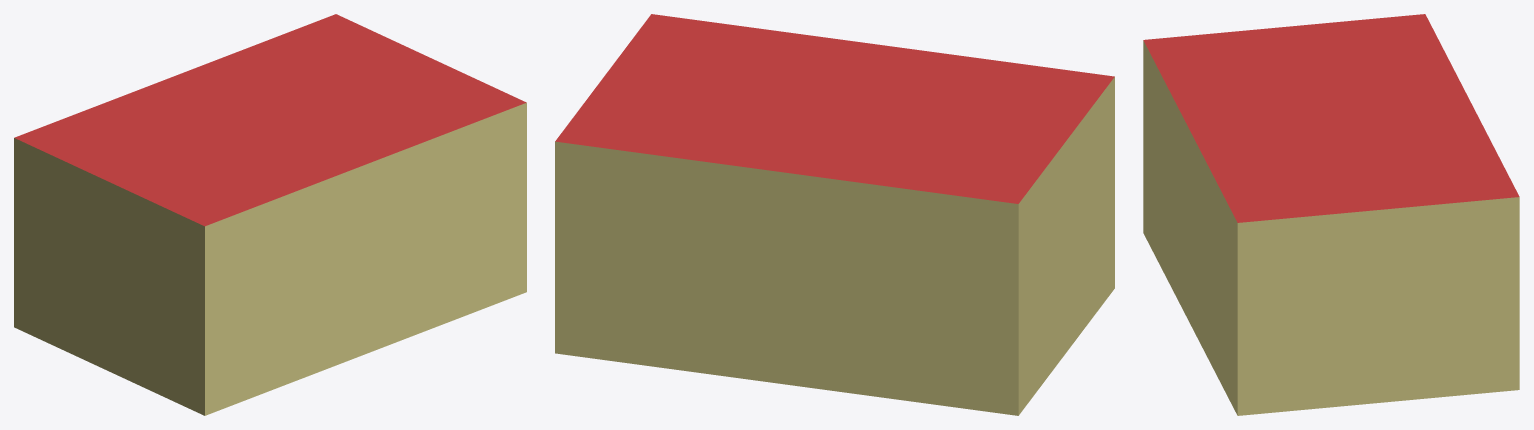
3 views of the same model, side by side, from view 1: azimuth 30°, elevation 25°; view 2: azimuth 150°, elevation 25°; view 3: azimuth 270°, elevation 25° (orthographic). The views are drawn at different scales.
Visible parts, largest first — view 1: group_4, group_3; view 2: group_4, group_3; view 3: group_4, group_3.
Boxes of the visible parts, x1=… form: group_4: x1=14, y1=102, x2=526, y2=415; group_3: x1=14, y1=14, x2=526, y2=226; group_4: x1=555, y1=77, x2=1114, y2=415; group_3: x1=555, y1=14, x2=1114, y2=203; group_4: x1=1143, y1=40, x2=1519, y2=415; group_3: x1=1143, y1=14, x2=1519, y2=222.
Size of the model in its own units: 19.02 by 14.47 by 8.19.
